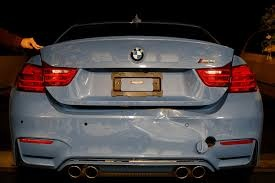Dent: (111, 106, 213, 153)
